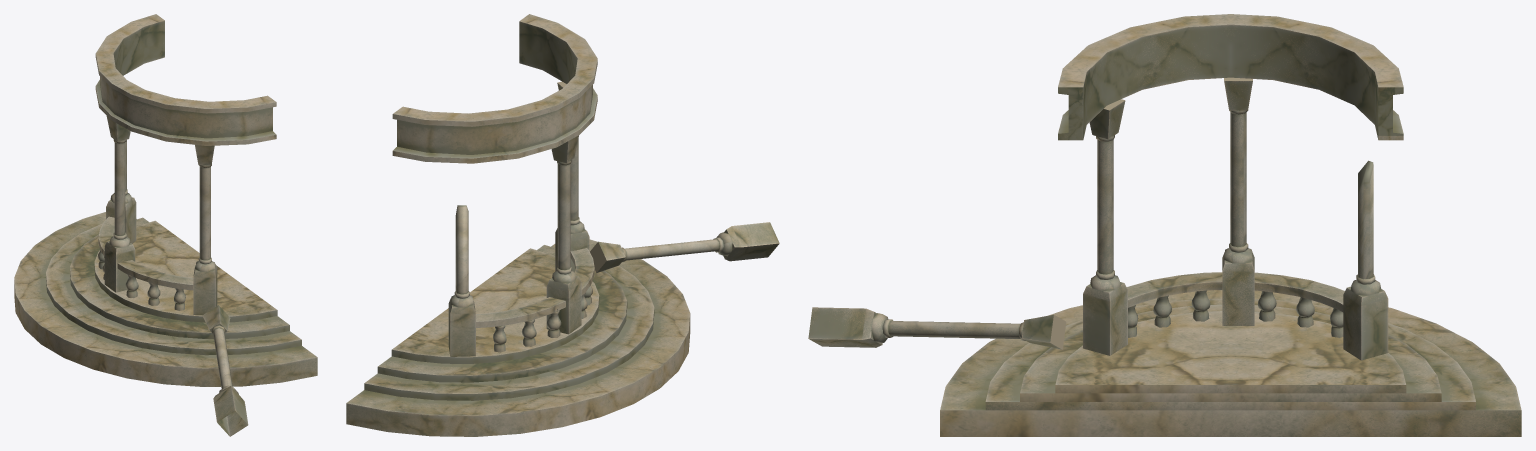
File: pavilion01.fbx
3 renders of one model, left to right at view 1: azimuth 30°, elevation 25°; view 2: azimuth 150°, elevation 25°; view 3: azimuth 270°, elevation 25°, orthographic. The views are drawn at different scales.
Parts seen in each view (by area): view 1: Cylinder.011; view 2: Cylinder.011; view 3: Cylinder.011.
Boxes of the visible parts, left/top/right/bottom form: Cylinder.011: left=14, top=14, right=317, bottom=436; Cylinder.011: left=346, top=14, right=779, bottom=436; Cylinder.011: left=808, top=14, right=1521, bottom=436.
Size of the model in its own units: 480 by 637 by 1177.
